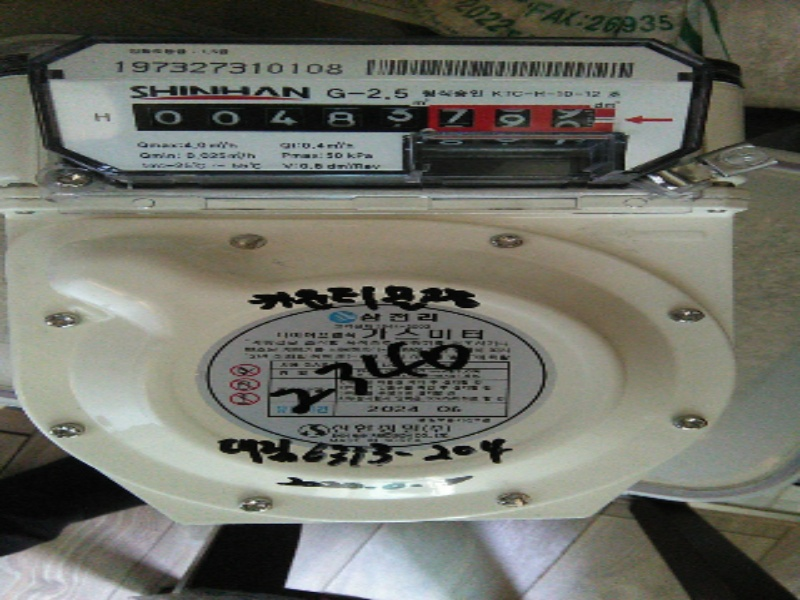meter: (32, 26, 710, 190)
